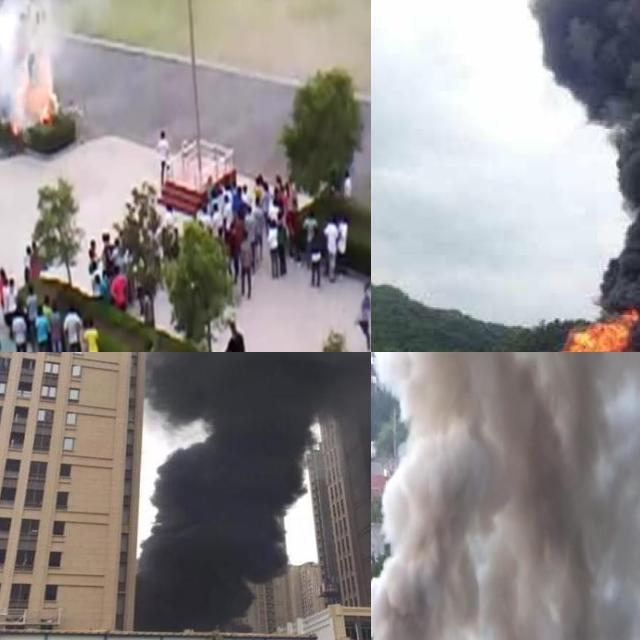fire: (559, 305, 636, 352), (23, 78, 54, 122)
smoke: (371, 352, 639, 640), (128, 352, 371, 634), (542, 0, 640, 352), (0, 0, 150, 114)
